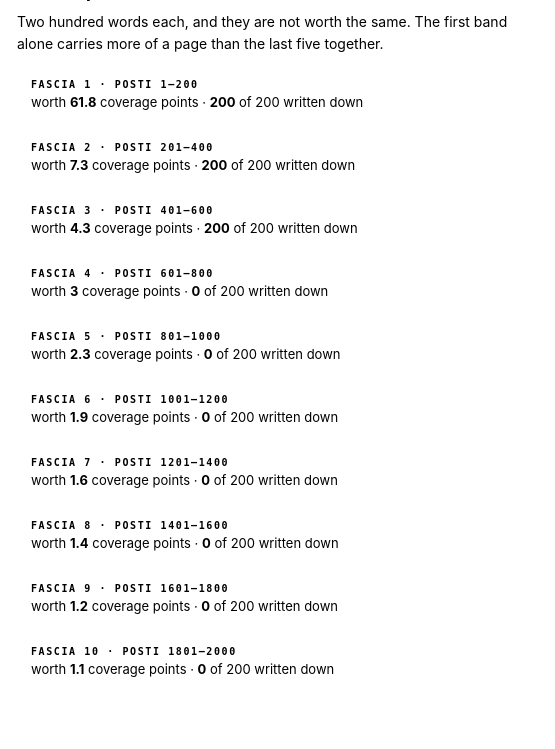
La Riserva › says a fascia is unwritten rather than showing an empty list
The width and height of the screenshot is (555, 749).
(page scrolled)
Click the button "Fascia 10 · posti 1801–2000" at (277, 661), box left=17, top=634, right=537, bottom=689
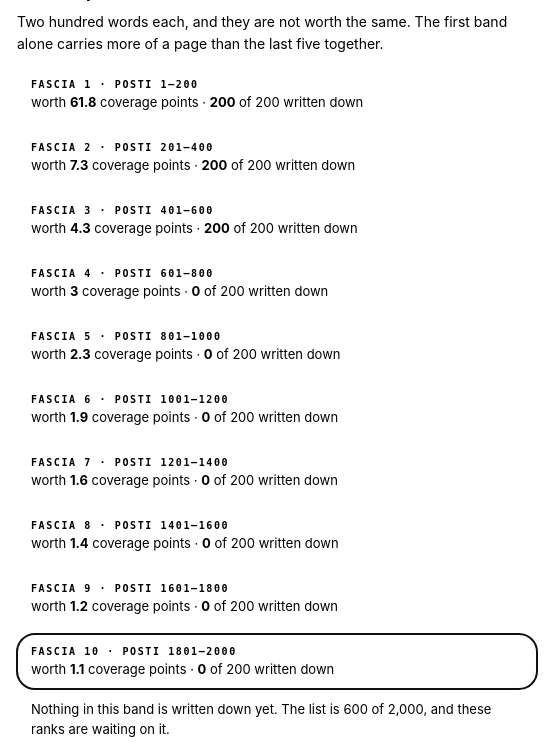
Expected: the text "Nothing in this band is written down yet" is shown, left=31, top=701, right=343, bottom=717
